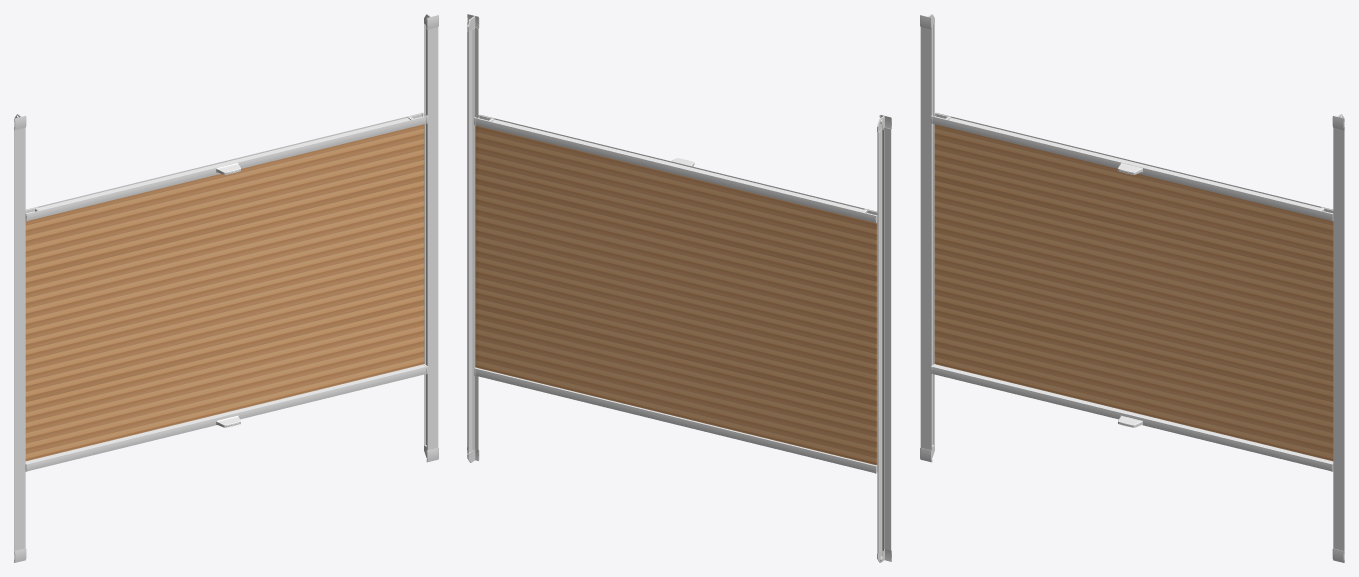
Rendered from DF Comfort 20.glb.
The picture shows the model from 3 angles, left to right: view 1: azimuth 30°, elevation 25°; view 2: azimuth 150°, elevation 25°; view 3: azimuth 330°, elevation 25°; orthographic projection.
Visible parts, largest first — view 1: Plane.002, Plane.001, Plane.003, Cube.007, Cube.009; view 2: Plane.002, Plane.003, Cube.007, Plane.001, Cube.009; view 3: Plane.002, Plane.003, Plane.001, Cube.007, Cube.009.
Part boxes in pixels (<box>): Plane.002: <box>25,124,424,461</box>; Plane.001: <box>424,24,438,450</box>; Plane.003: <box>14,128,25,550</box>; Cube.007: <box>26,113,426,220</box>; Cube.009: <box>25,364,426,470</box>; Plane.002: <box>475,125,877,465</box>; Plane.003: <box>877,127,891,553</box>; Cube.007: <box>475,114,876,222</box>; Plane.001: <box>467,25,478,453</box>; Cube.009: <box>475,368,875,472</box>; Plane.002: <box>934,124,1333,461</box>; Plane.003: <box>920,24,934,450</box>; Plane.001: <box>1333,128,1344,550</box>; Cube.007: <box>932,113,1332,220</box>; Cube.009: <box>932,364,1333,470</box>.
Size of the model in its own units: 0.9997 by 0.9994 by 0.0551.
4 materials, 1 textured.
